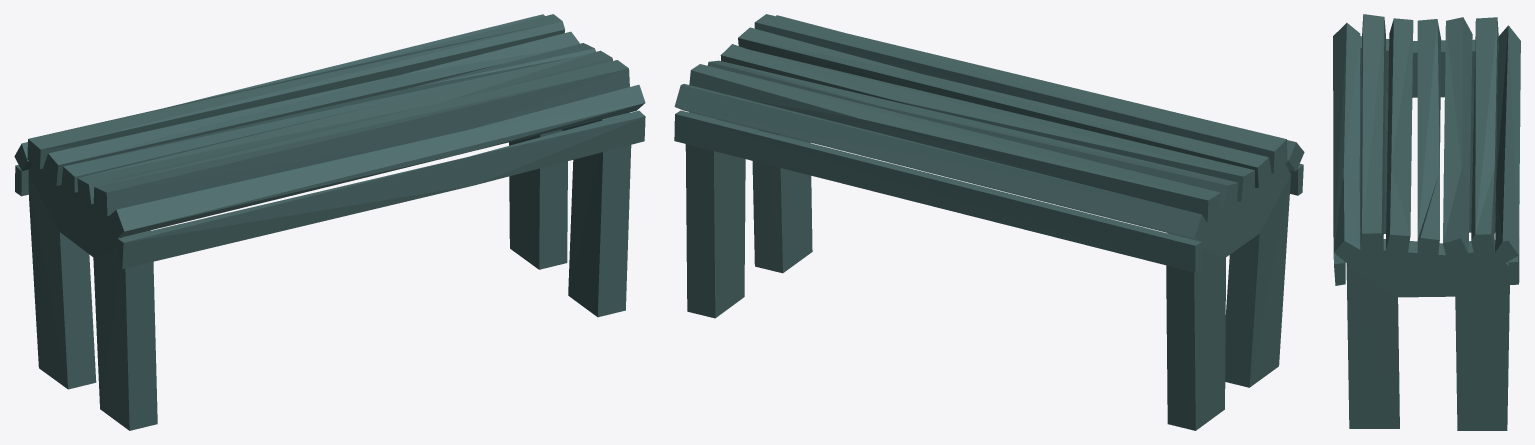
The model's file is cove-bench.lod1.glb.
The picture shows the model from 3 angles, left to right: view 1: azimuth 30°, elevation 25°; view 2: azimuth 150°, elevation 25°; view 3: azimuth 270°, elevation 25°; orthographic projection. The views are drawn at different scales.
Visible parts, largest first — view 1: Bench_wooden_01_Bench_wooden_01_0; view 2: Bench_wooden_01_Bench_wooden_01_0; view 3: Bench_wooden_01_Bench_wooden_01_0.
Boxes of the visible parts, left/top/right/bottom form: Bench_wooden_01_Bench_wooden_01_0: left=14, top=14, right=645, bottom=430; Bench_wooden_01_Bench_wooden_01_0: left=674, top=14, right=1304, bottom=430; Bench_wooden_01_Bench_wooden_01_0: left=1333, top=14, right=1520, bottom=430.
Bounding box in the file's own units: 1.6 × 0.6936 × 0.5844.
